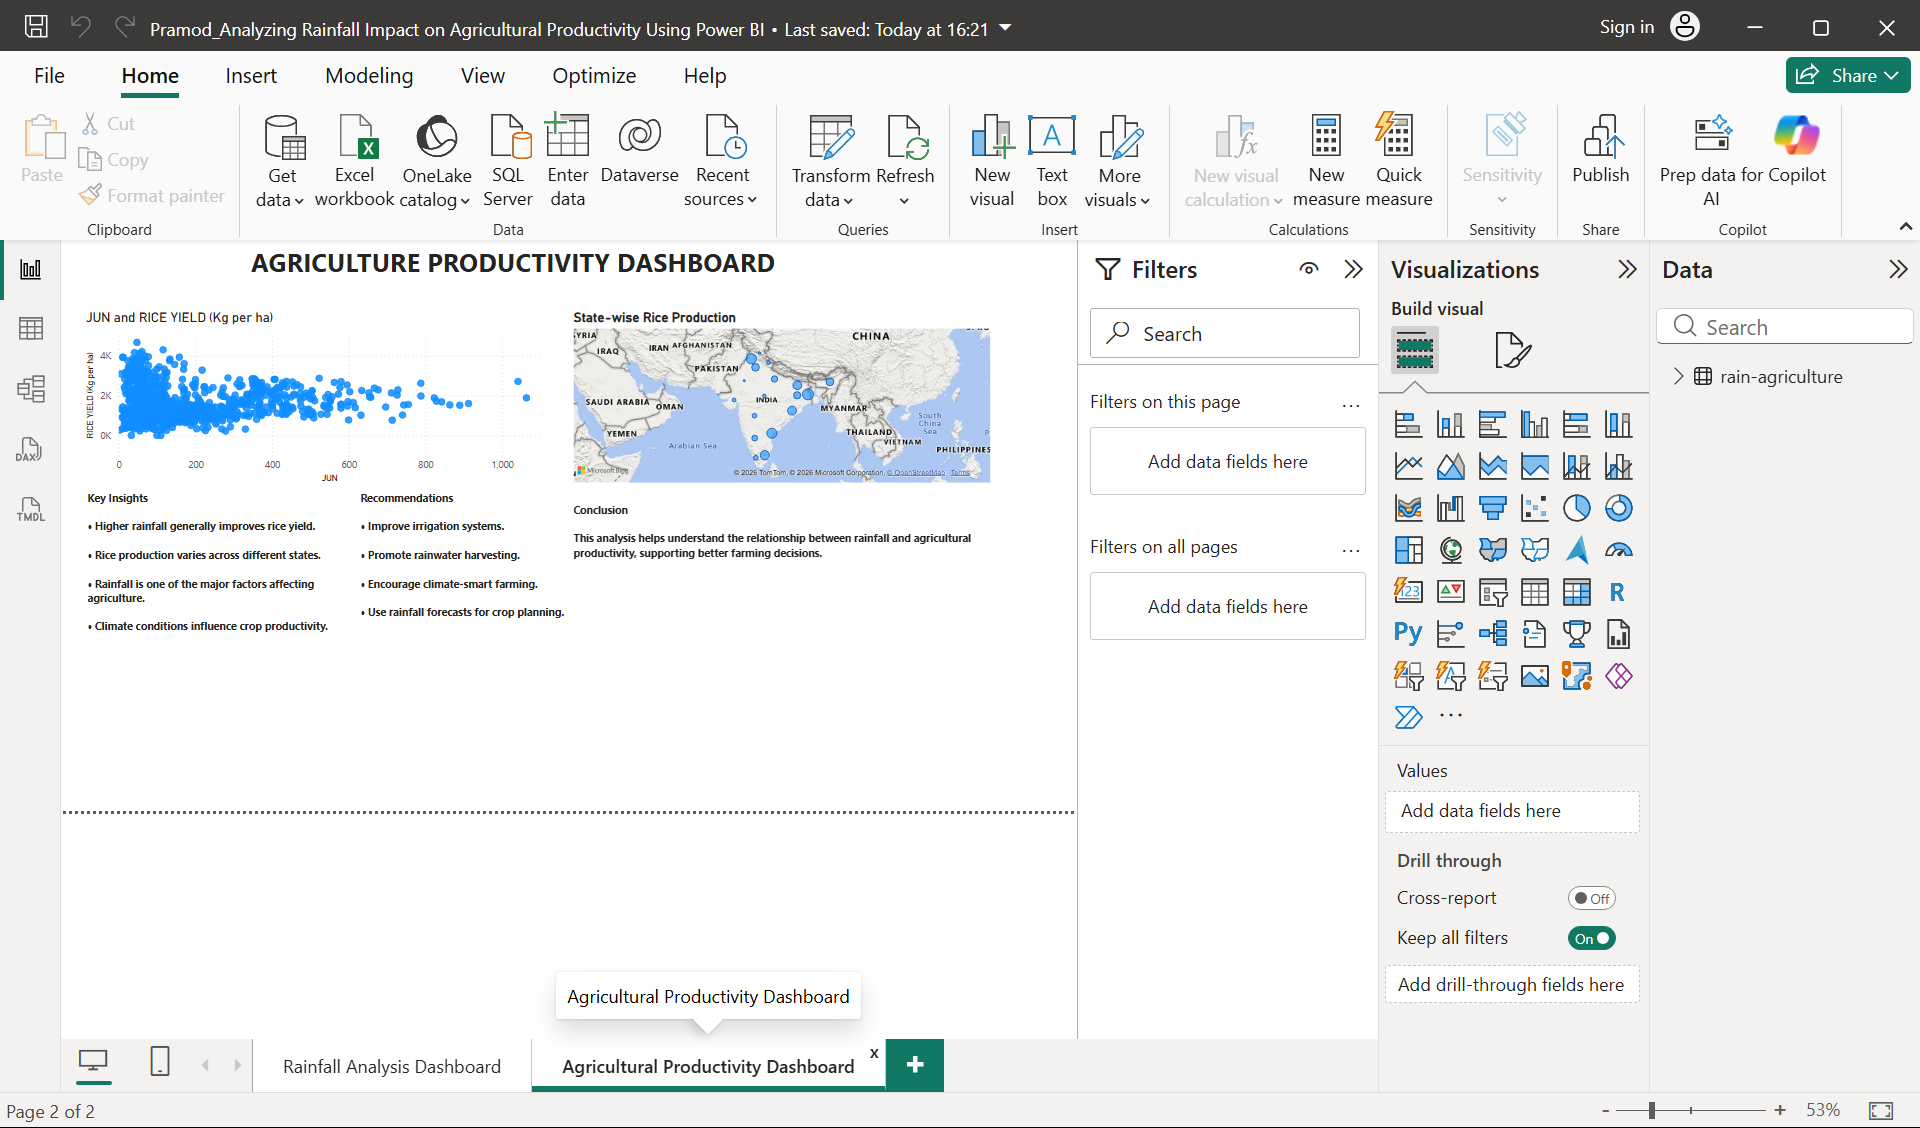

What the dashboard file says about the page in this screenshot:
{"tool":"powerbi","page":{"name":"Agricultural Productivity Dashboard","canvas":[1280,720],"ordinal":1},"visuals":[{"type":"textbox","box":[235.1,0,1046.2,86.2],"z":0},{"type":"map","title":"State-wise Rice Production","fields":{"Category":["rain-agriculture.State Name"],"Size":["rain-agriculture.Total Rice Production"]},"box":[640.6,86.9,534.8,223],"z":2000},{"type":"textbox","box":[27.4,309.6,344.8,411.4],"z":3000},{"type":"textbox","box":[372.3,309.6,431,411.4],"z":4000},{"type":"textbox","box":[640.6,325,534.8,396.9],"z":5000},{"type":"scatterChart","fields":{"X":["rain-agriculture.JUN"],"Y":["rain-agriculture.RICE YIELD (Kg per ha)"]},"box":[26.5,86.9,597.2,223],"z":5001}]}

Visuals, with their boxes on the page's 1280x720 design canvas (x1, y1, x2, y2). These are canvas units, not pixel positions in the 1920x1128 screenshot, which may show the page scaled, cropped or inside an application window:
textbox: [left=235, top=0, right=1281, bottom=86]
"State-wise Rice Production" map: [left=641, top=87, right=1175, bottom=310]
textbox: [left=27, top=310, right=372, bottom=721]
textbox: [left=372, top=310, right=803, bottom=721]
textbox: [left=641, top=325, right=1175, bottom=722]
scatterChart - rain-agriculture.JUN x rain-agriculture.RICE YIELD (Kg per ha): [left=26, top=87, right=624, bottom=310]
